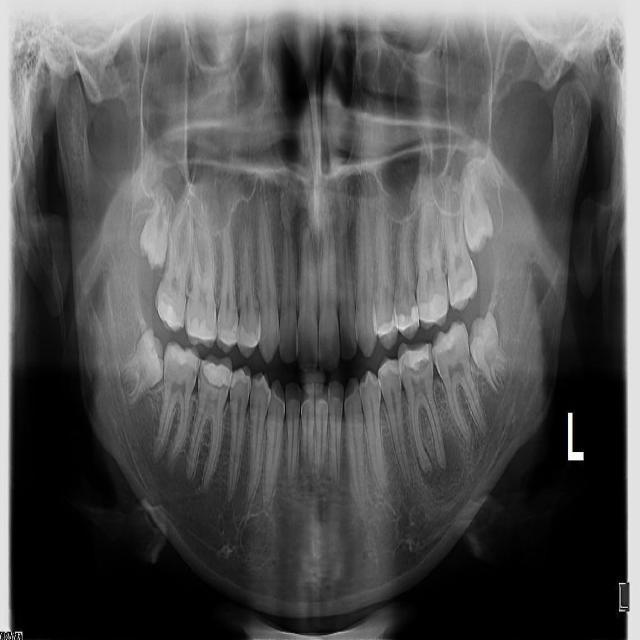Caries: (197, 362, 203, 387)
Filling: (420, 294, 446, 324), (202, 361, 231, 387), (404, 343, 429, 370), (187, 317, 213, 342), (157, 300, 180, 326), (395, 307, 418, 332), (171, 344, 195, 367), (219, 314, 238, 341), (238, 326, 256, 350), (377, 315, 393, 337)
Periapical lesion: (417, 442, 437, 483), (432, 440, 449, 473), (162, 456, 182, 483), (150, 450, 168, 467), (184, 467, 199, 486)
impacted tooth: (118, 328, 165, 405), (470, 312, 511, 392), (463, 168, 492, 247), (140, 191, 170, 264)
